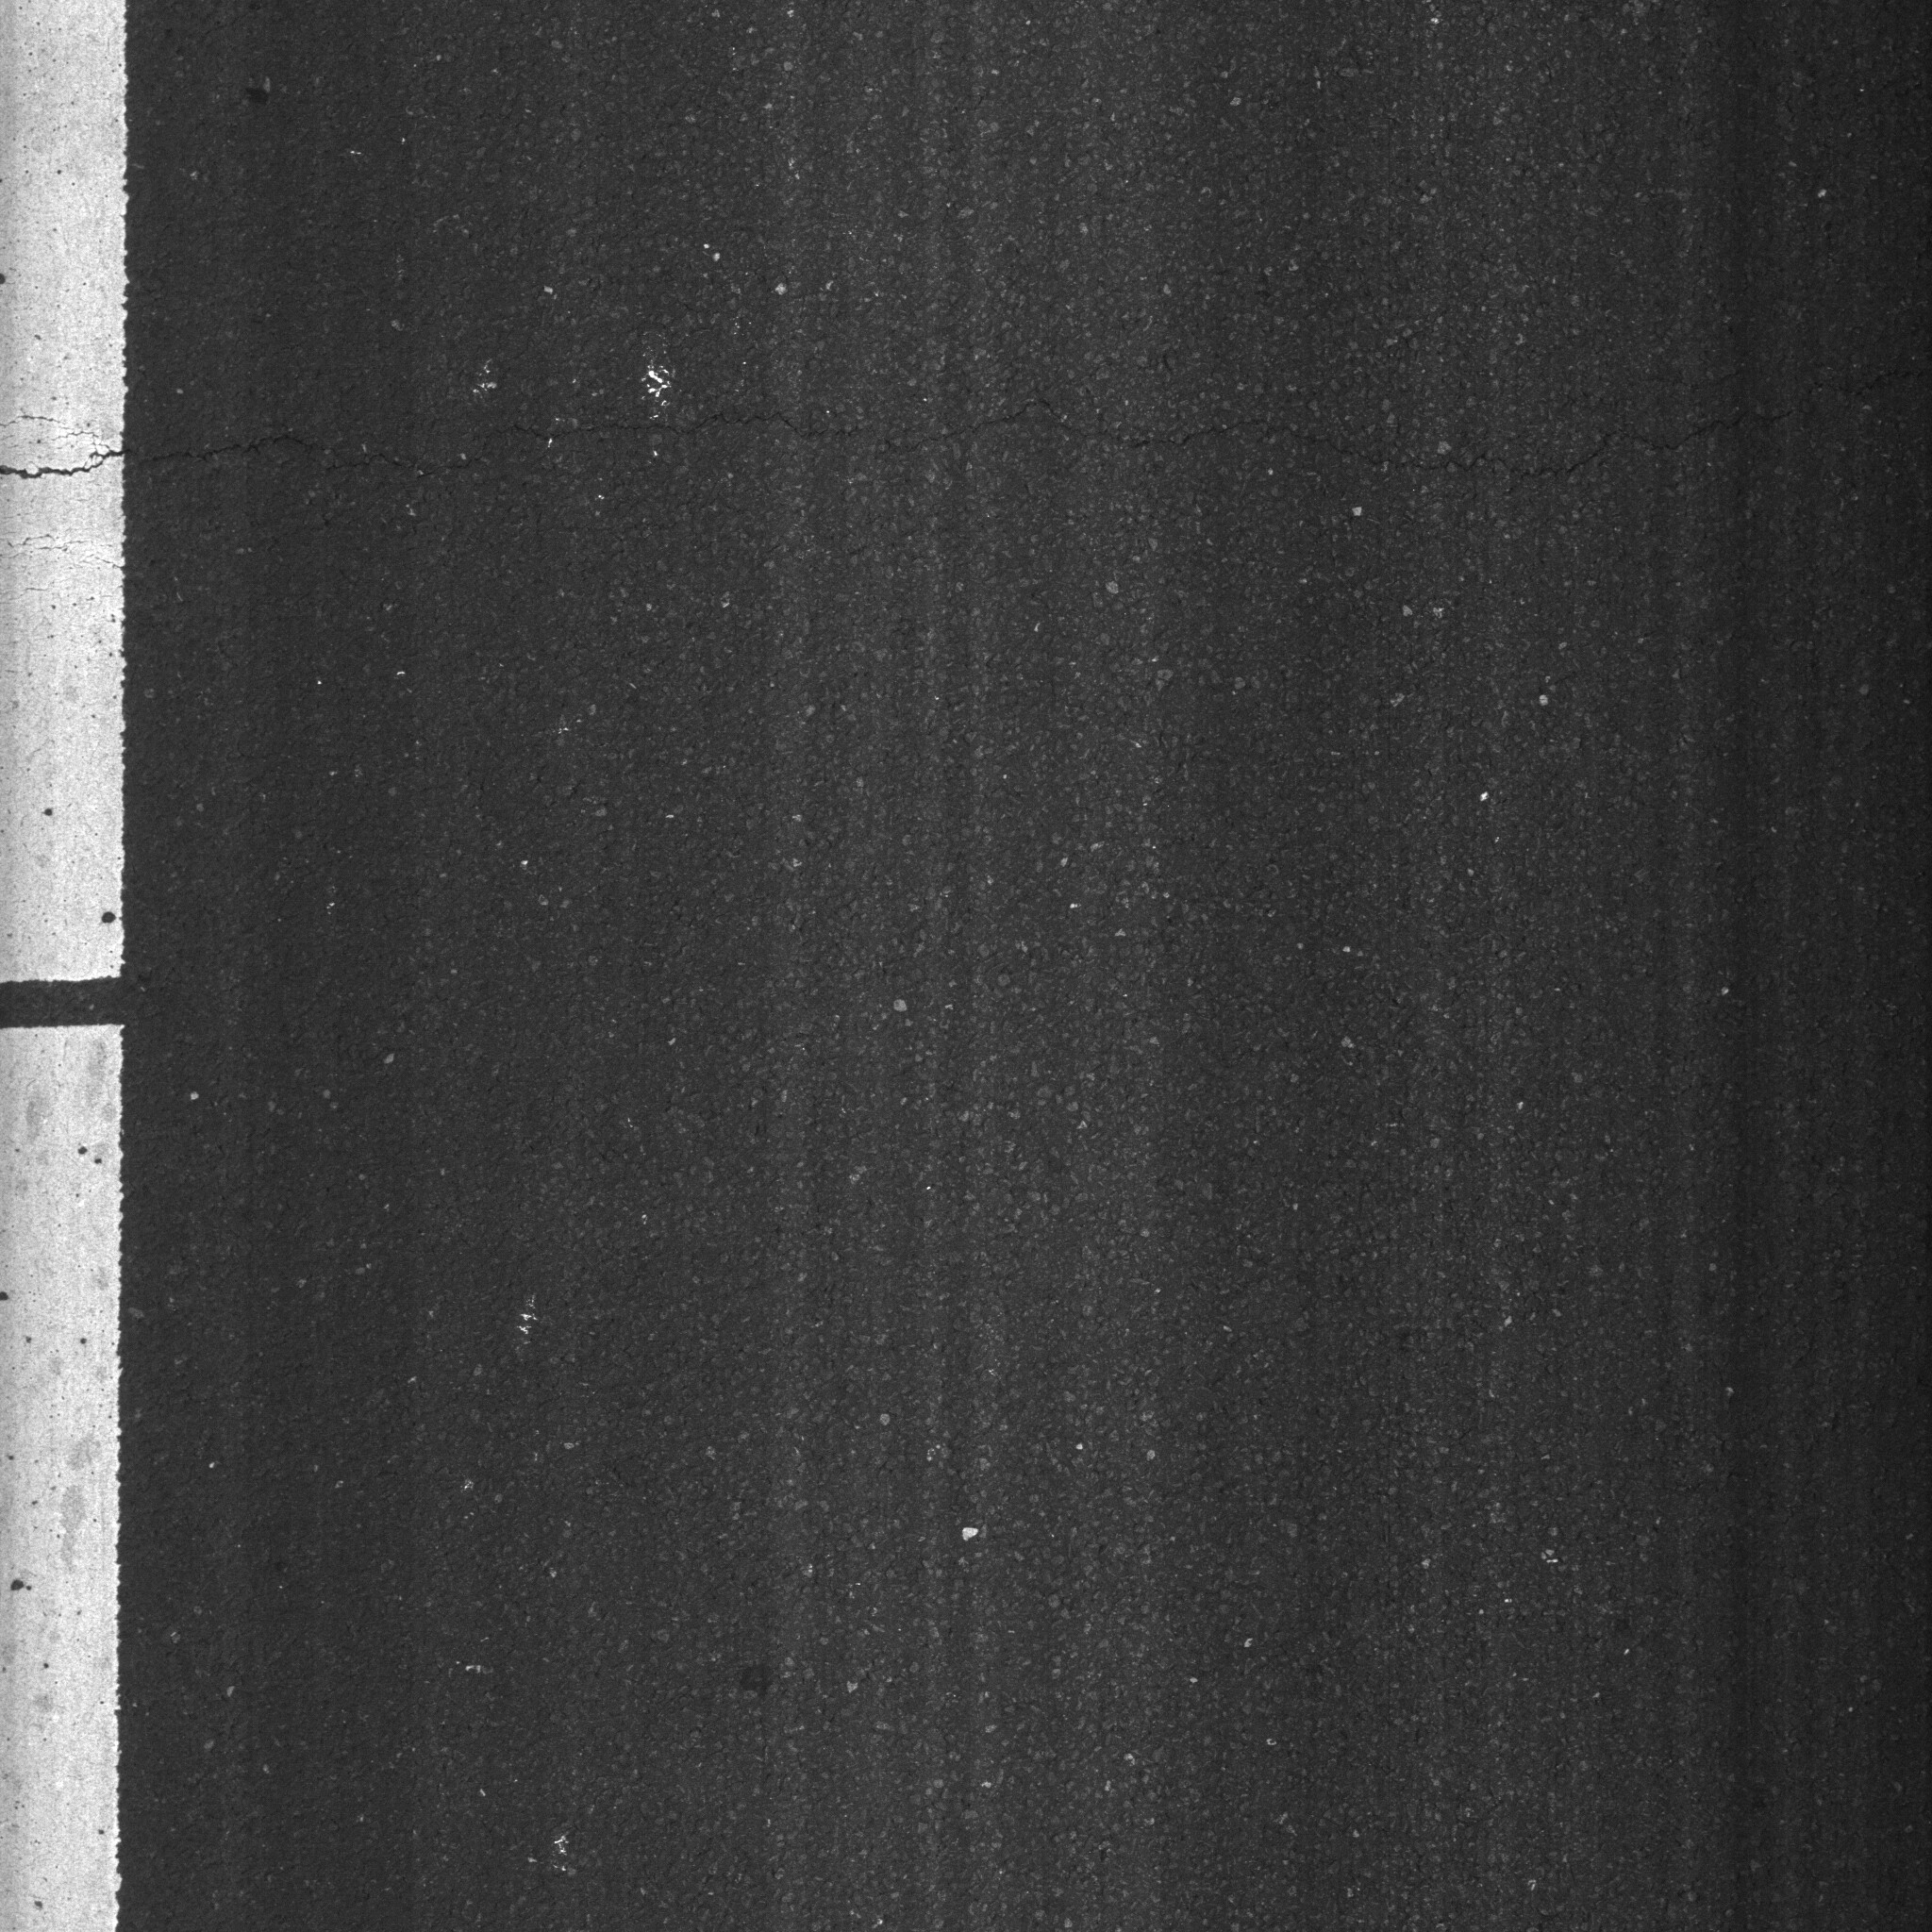transeverse: (5, 389, 1921, 508)
